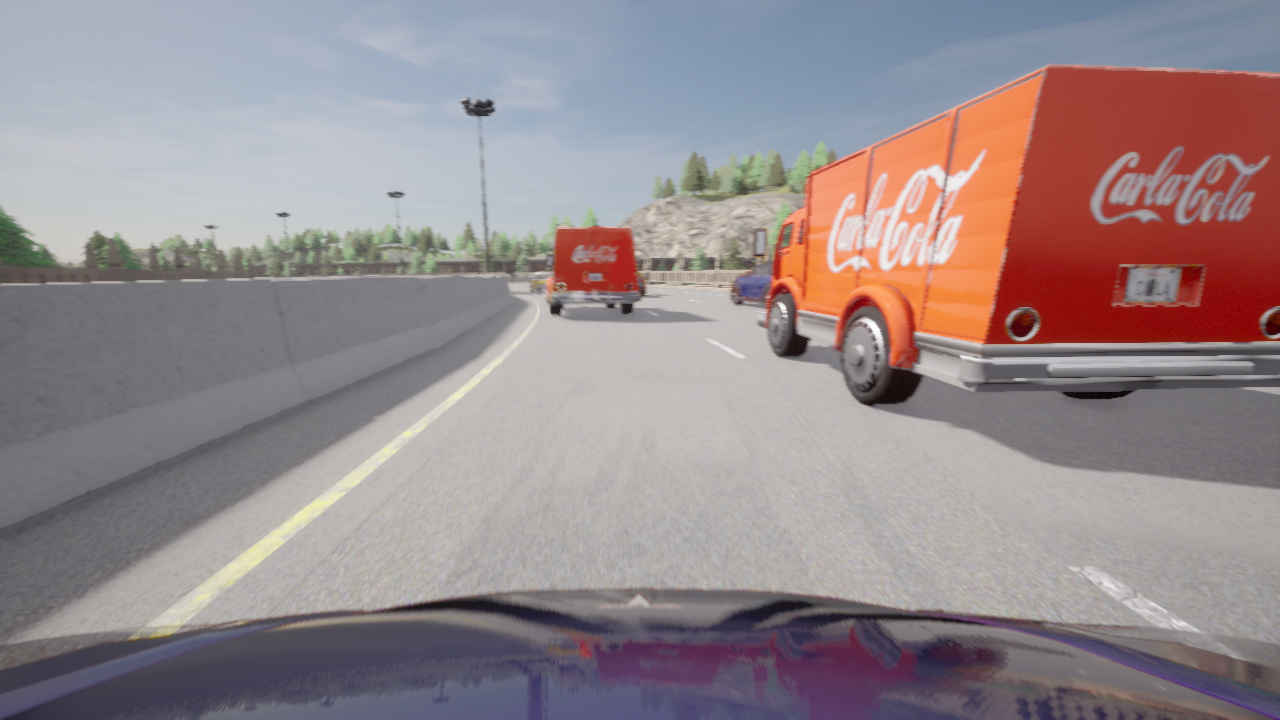cyclist: (753, 64, 1279, 404), (0, 588, 1279, 719), (546, 226, 640, 315), (731, 260, 772, 306), (530, 272, 549, 293), (636, 271, 645, 296)
